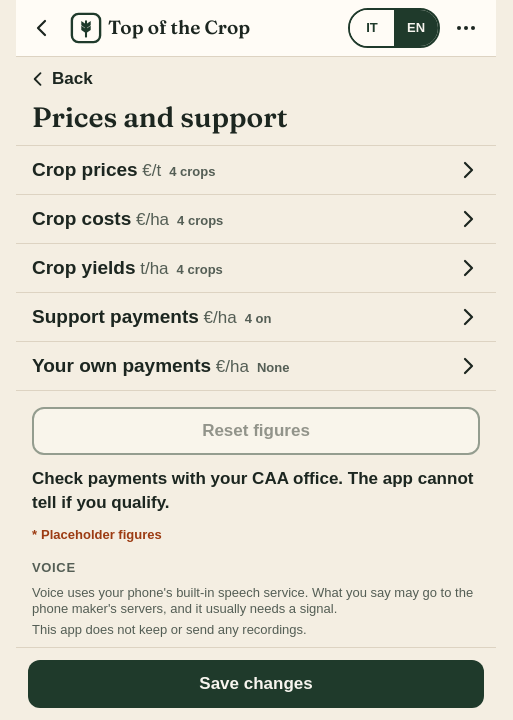
Test: Settings › (d) clearing or mistyping an input shows the error and leaves the link alone
The image size is (513, 720).
Click the button "Crop prices €/t 4 crops": (85, 169) [16, 146, 496, 194]
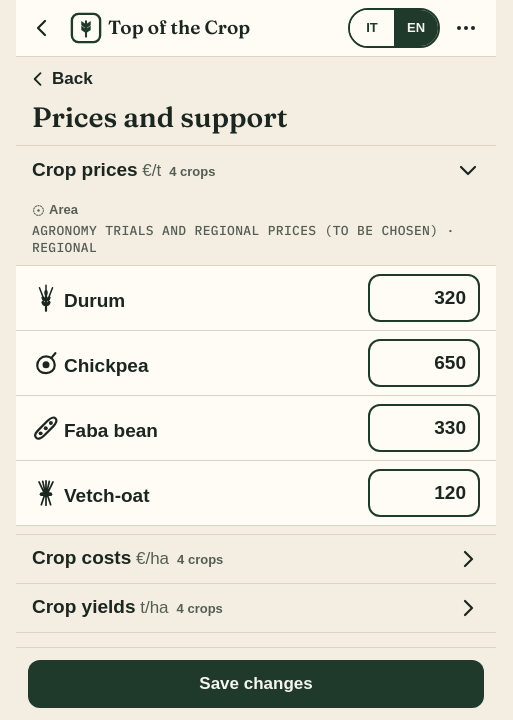
Clear the field named "Durum price": (424, 298) [368, 274, 480, 322]
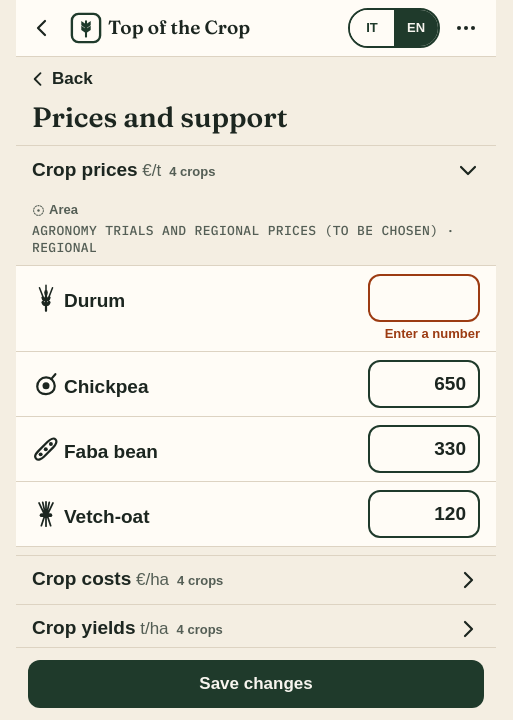
Now the message with test id "money-error" reads "Enter a number", box [385, 326, 480, 341]
In the field named "Durum price": (424, 298) [368, 274, 480, 322], type "4o0"
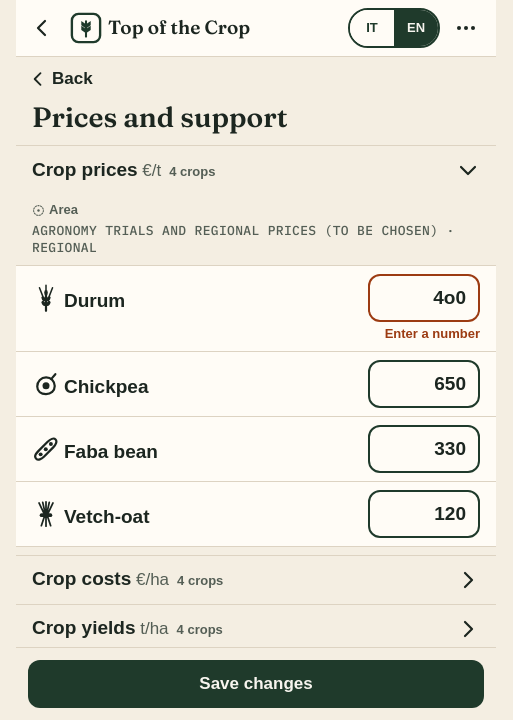
Now the message with test id "money-error" reads "Enter a number", box [385, 326, 480, 341]
Replace the text in the field named "Durum price" with "99999": (424, 298) [368, 274, 480, 322]
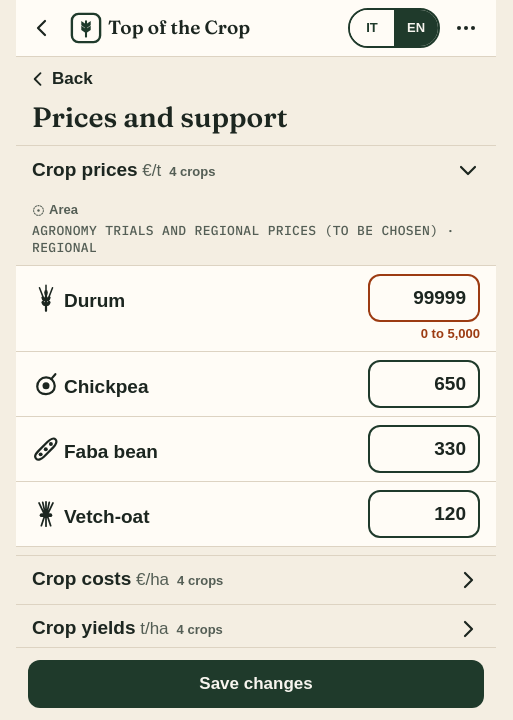
Now the message with test id "money-error" reads "0 to 5,000", box [421, 326, 480, 341]
